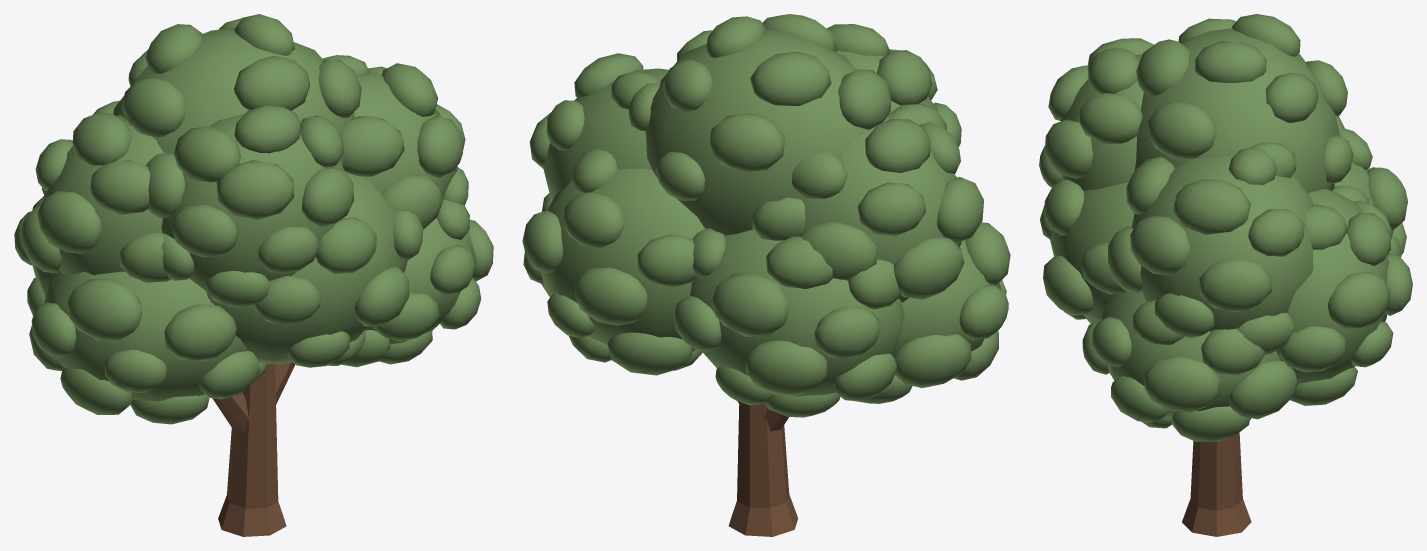
The model's file is deciduous_tree.glb.
The picture shows the model from 3 angles, left to right: view 1: azimuth 30°, elevation 25°; view 2: azimuth 150°, elevation 25°; view 3: azimuth 270°, elevation 25°; orthographic projection. The views are drawn at different scales.
Visible parts, largest first — view 1: DeciduousTree; view 2: DeciduousTree; view 3: DeciduousTree.
Boxes of the visible parts, x1,y1,x2,y2 form: DeciduousTree: [14, 14, 493, 536]; DeciduousTree: [522, 14, 1010, 536]; DeciduousTree: [1039, 14, 1412, 536].
Bounding box in the file's own units: 9.4 × 10 × 6.97.
